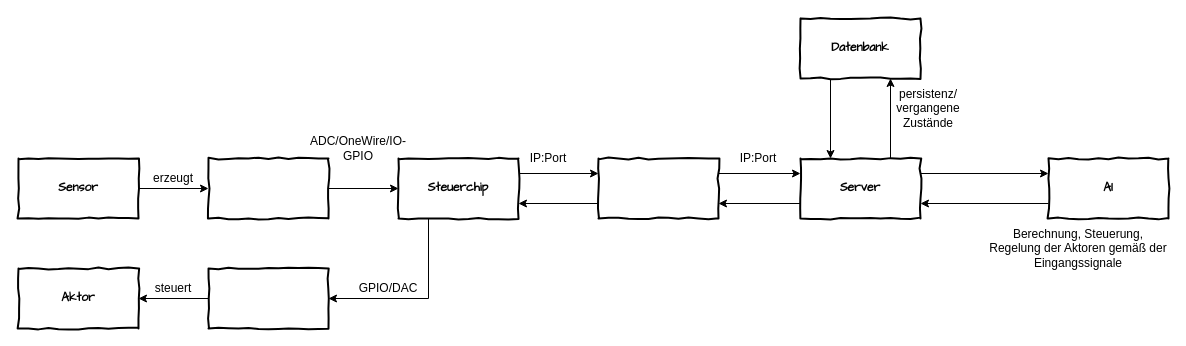
The diagram is 1186 pixels wide and 346 high, and some of its shapes have lost their labels. Here are the shapes that lost their labels. From the top down, the centre of each, then its label:
At pixel 268 188: "Sensordaten".
At pixel 658 188: "Socket".
At pixel 268 298: "Aktorzustände".
